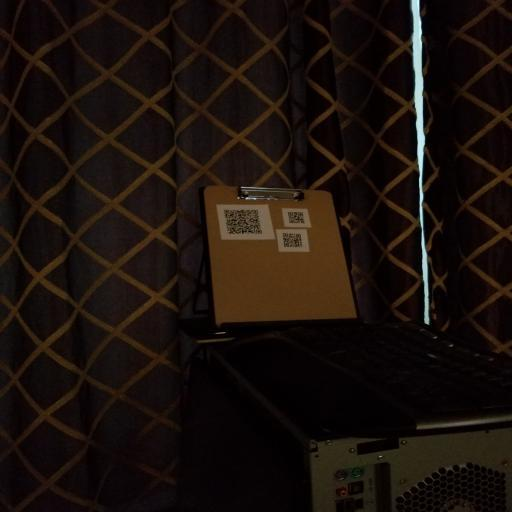qr_code: (224, 210, 262, 234), (283, 233, 302, 247), (288, 212, 304, 224)
